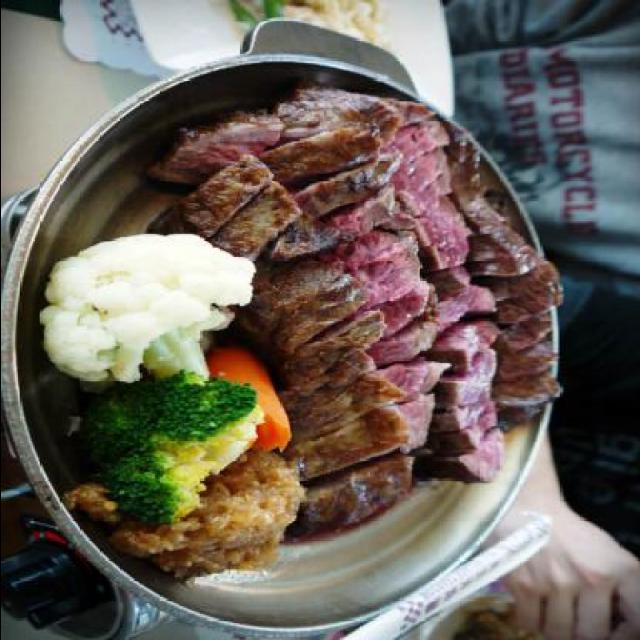Broccoli: (84, 370, 262, 526)
